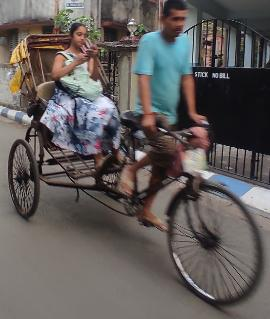Auto: (6, 31, 265, 311)
